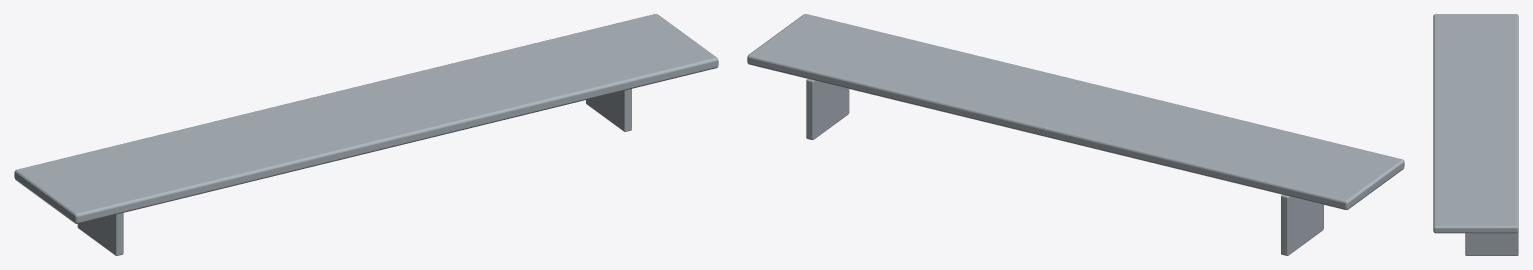
Rendered from SM_WallShelf.glb.
3 renders of one model, left to right at view 1: azimuth 30°, elevation 25°; view 2: azimuth 150°, elevation 25°; view 3: azimuth 270°, elevation 25°, orthographic. The views are drawn at different scales.
Visible parts, largest first — view 1: SM_WallShelf; view 2: SM_WallShelf; view 3: SM_WallShelf.
Part boxes in pixels (x1,y1,x2,y2): SM_WallShelf: (14,14,718,255); SM_WallShelf: (747,14,1404,255); SM_WallShelf: (1433,14,1518,255).
Bounding box in the file's own units: 1.9 × 0.21 × 0.32.
1 material, 1 textured.
